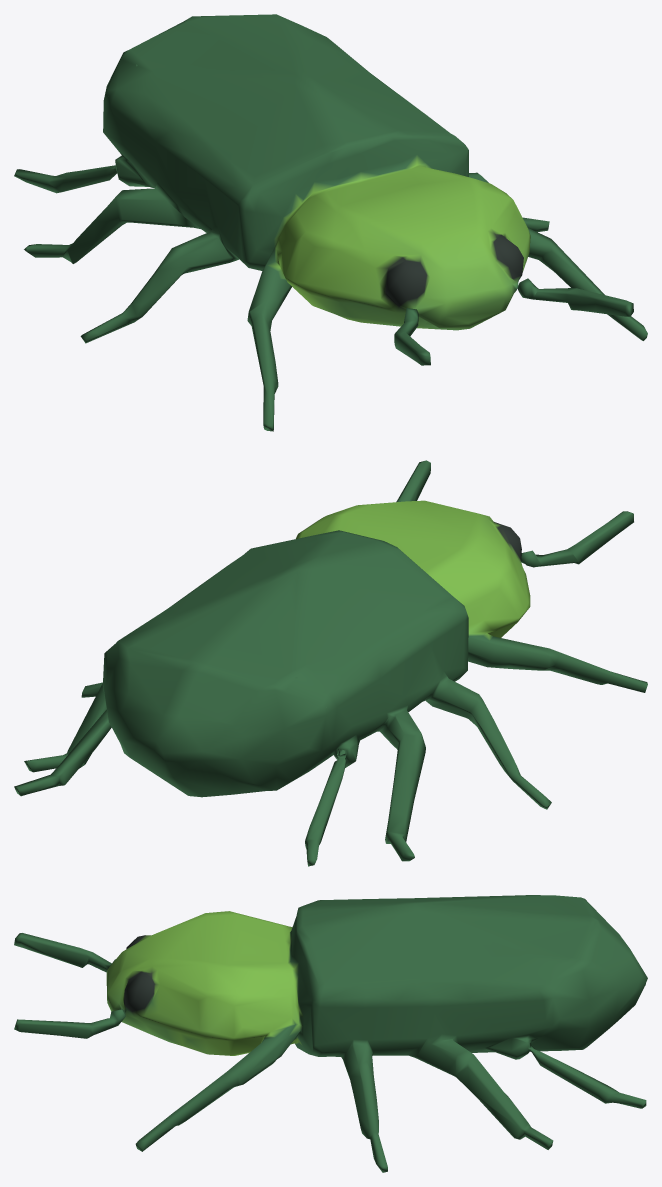
Rendered from gen3d-alien-bug-lod0.glb.
3 views of the same model, one above another, from view 1: azimuth 30°, elevation 25°; view 2: azimuth 150°, elevation 25°; view 3: azimuth 270°, elevation 25° (orthographic). The views are drawn at different scales.
Parts seen in each view (by area): view 1: part_0; view 2: part_0; view 3: part_0.
Part boxes in pixels (left/top/right/bottom): part_0: left=14, top=14, right=647, bottom=431; part_0: left=14, top=460, right=647, bottom=866; part_0: left=14, top=895, right=647, bottom=1172.
Size of the model in its own units: 2.45 by 0.9957 by 3.34.
